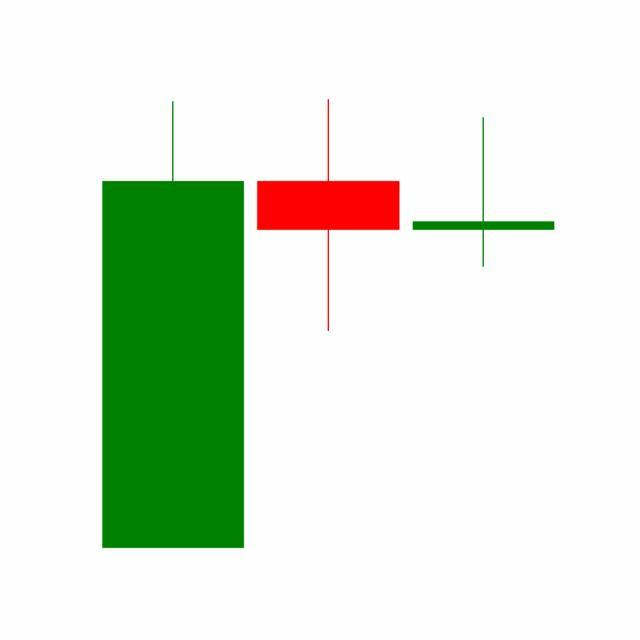Spinning Top: (406, 115, 562, 269)
